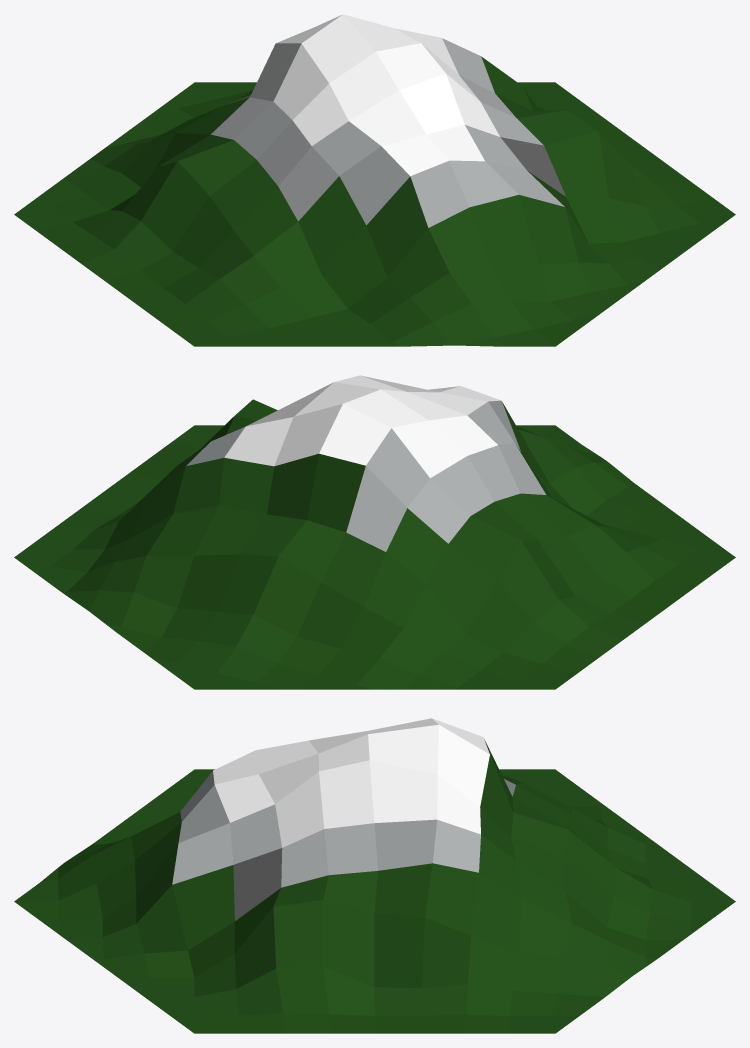
Rendered from mountain2.glb.
The picture shows the model from 3 angles, top to bottom: view 1: azimuth 30°, elevation 25°; view 2: azimuth 150°, elevation 25°; view 3: azimuth 270°, elevation 25°; orthographic projection.
Parts seen in each view (by area): view 1: Plane.001; view 2: Plane.001; view 3: Plane.001.
Boxes of the visible parts, x1=… form: Plane.001: x1=14, y1=14, x2=735, y2=346; Plane.001: x1=14, y1=375, x2=735, y2=689; Plane.001: x1=14, y1=718, x2=735, y2=1033.
Bounding box in the file's own units: 1.73 × 0.5409 × 2.
